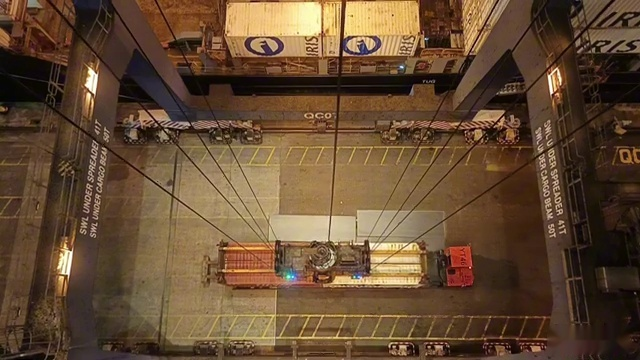container: (209, 236, 437, 294), (222, 2, 424, 61), (208, 1, 436, 36), (209, 0, 433, 30), (221, 3, 426, 31), (290, 11, 489, 20), (226, 0, 421, 4), (216, 0, 430, 3)
guide_mark: (76, 314, 550, 337), (106, 146, 545, 166)
spreader: (207, 236, 436, 291)
target_slot: (205, 234, 441, 295)
